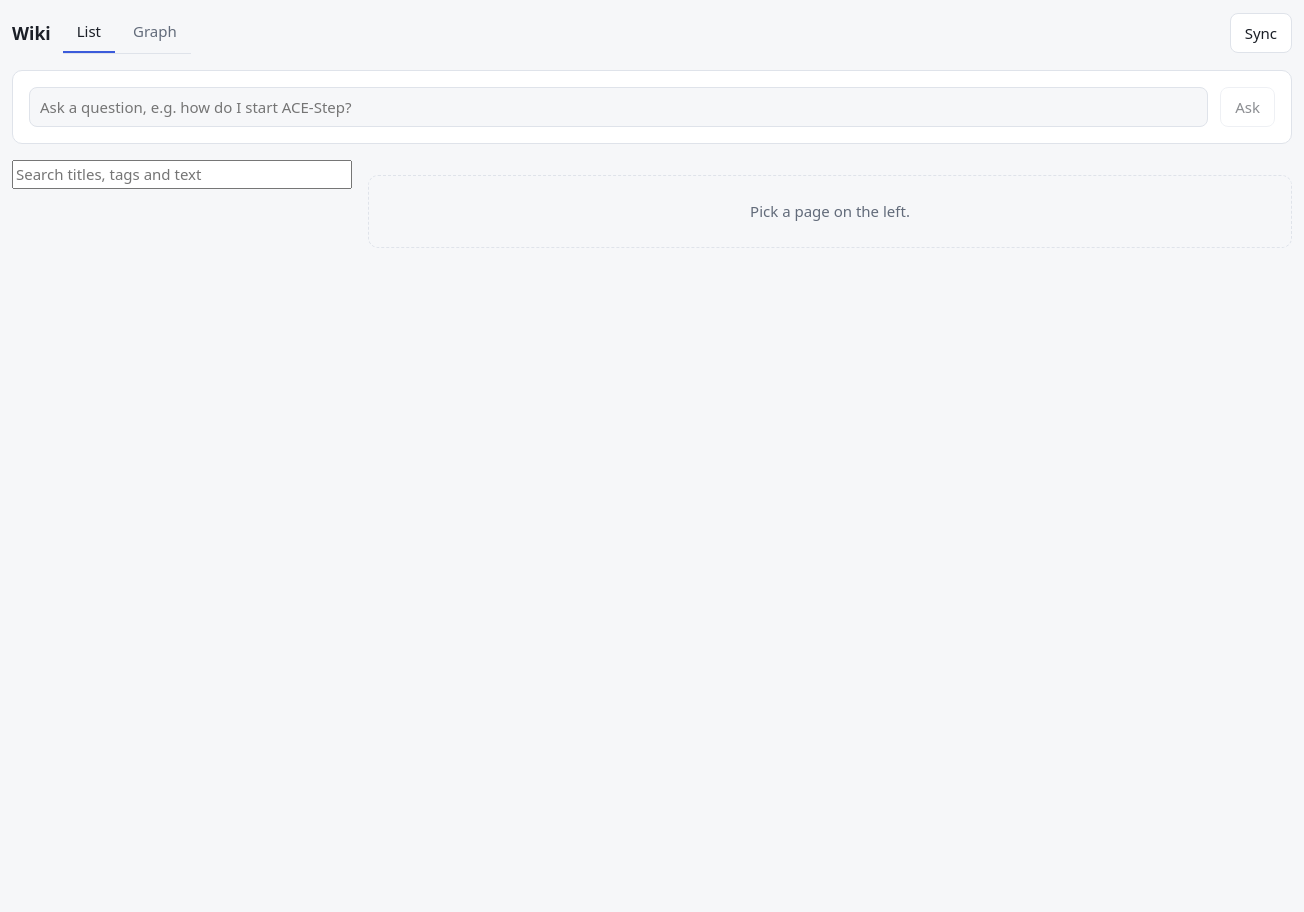
asking the knowledge base › says so when nothing matches, and when the answer points at nothing
Type "quantum chromodynamics" into the field with placeholder "Ask a question, e.g. how do I start ACE-Step?".
click(619, 107); type("quantum chromodynamics")  # box x1=29 y1=86 x2=1208 y2=127
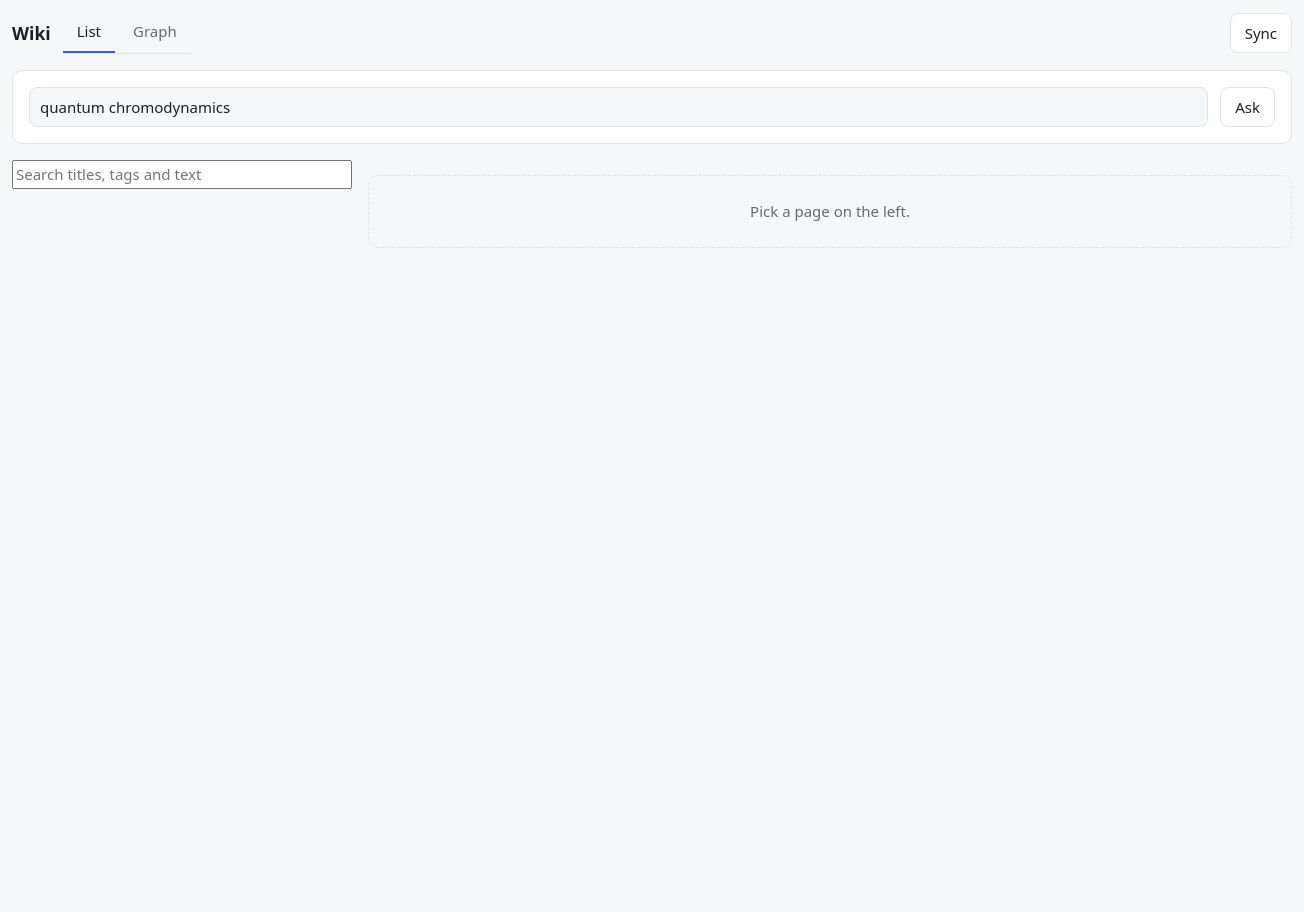
Click the button "Ask".
click(1248, 107)  # box x1=1220 y1=86 x2=1275 y2=127
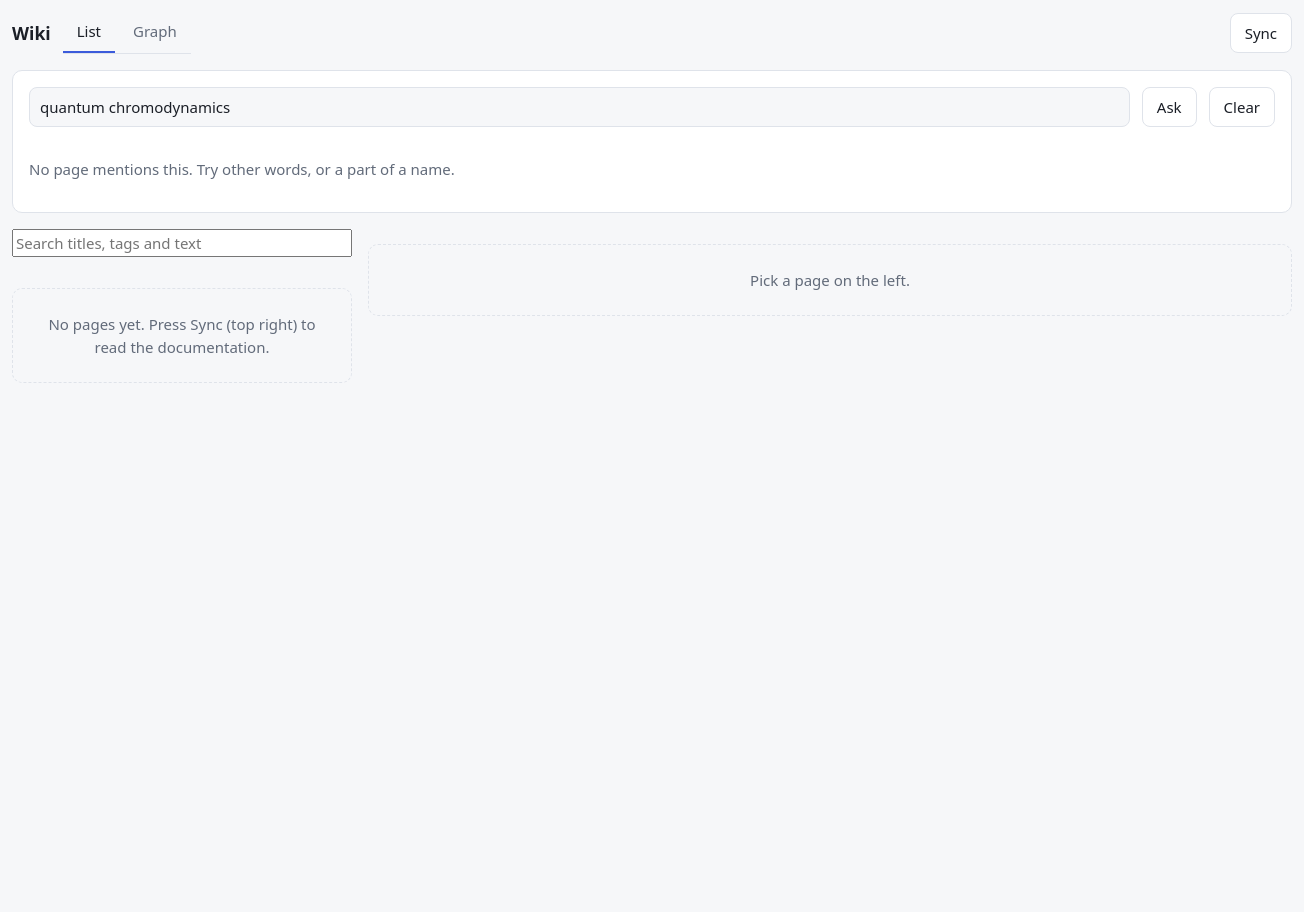
Expected: the text "No page mentions this. Try other words, or a part of a name." is shown, x1=29 y1=159 x2=455 y2=179
Replace the text in the field with placeholder "Ask a question, e.g. how do I start ACE-Step?" with "something else" at point(579, 107), box x1=29 y1=86 x2=1130 y2=127
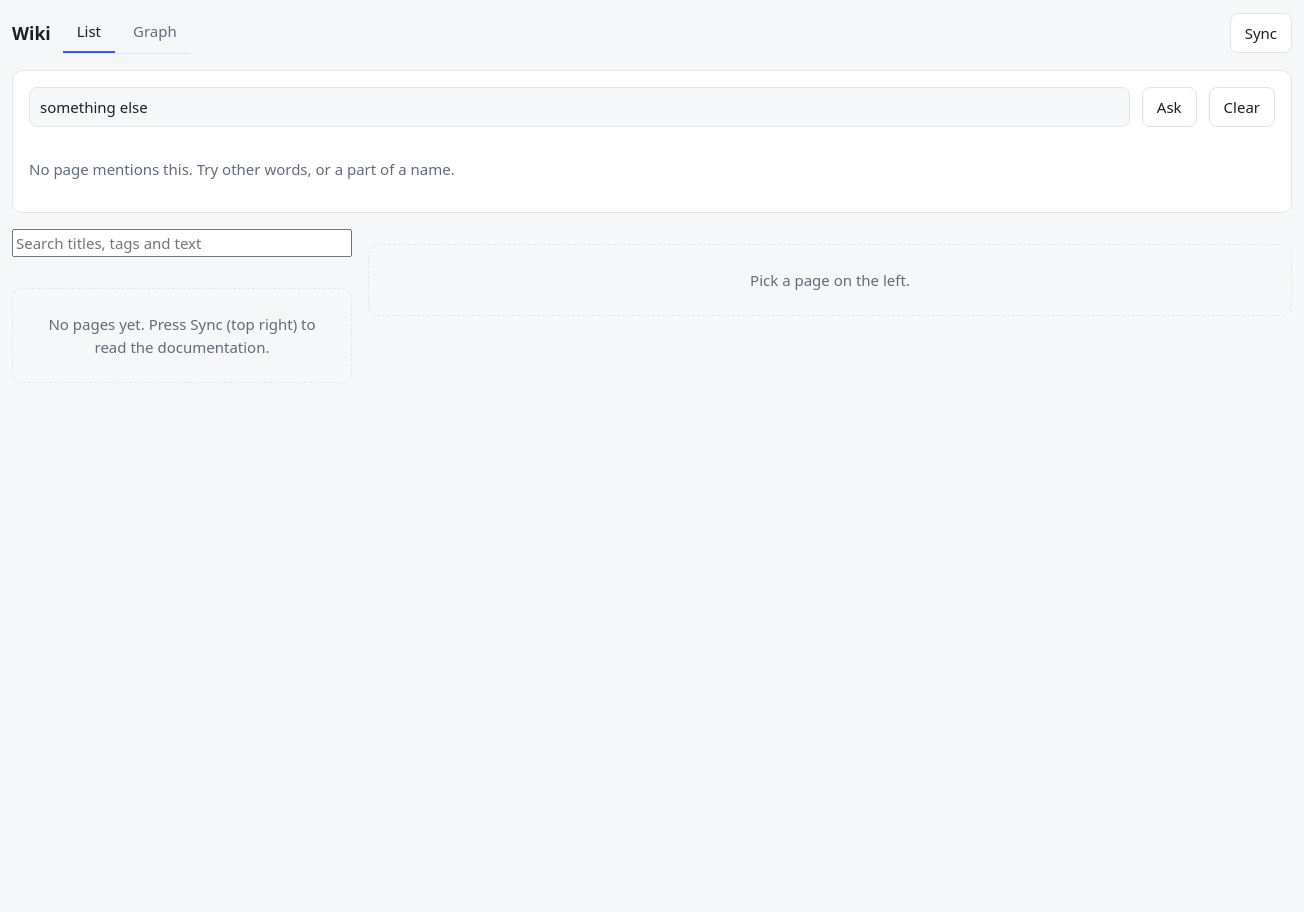
Click the button "Ask".
click(1169, 107)  # box x1=1142 y1=86 x2=1197 y2=127
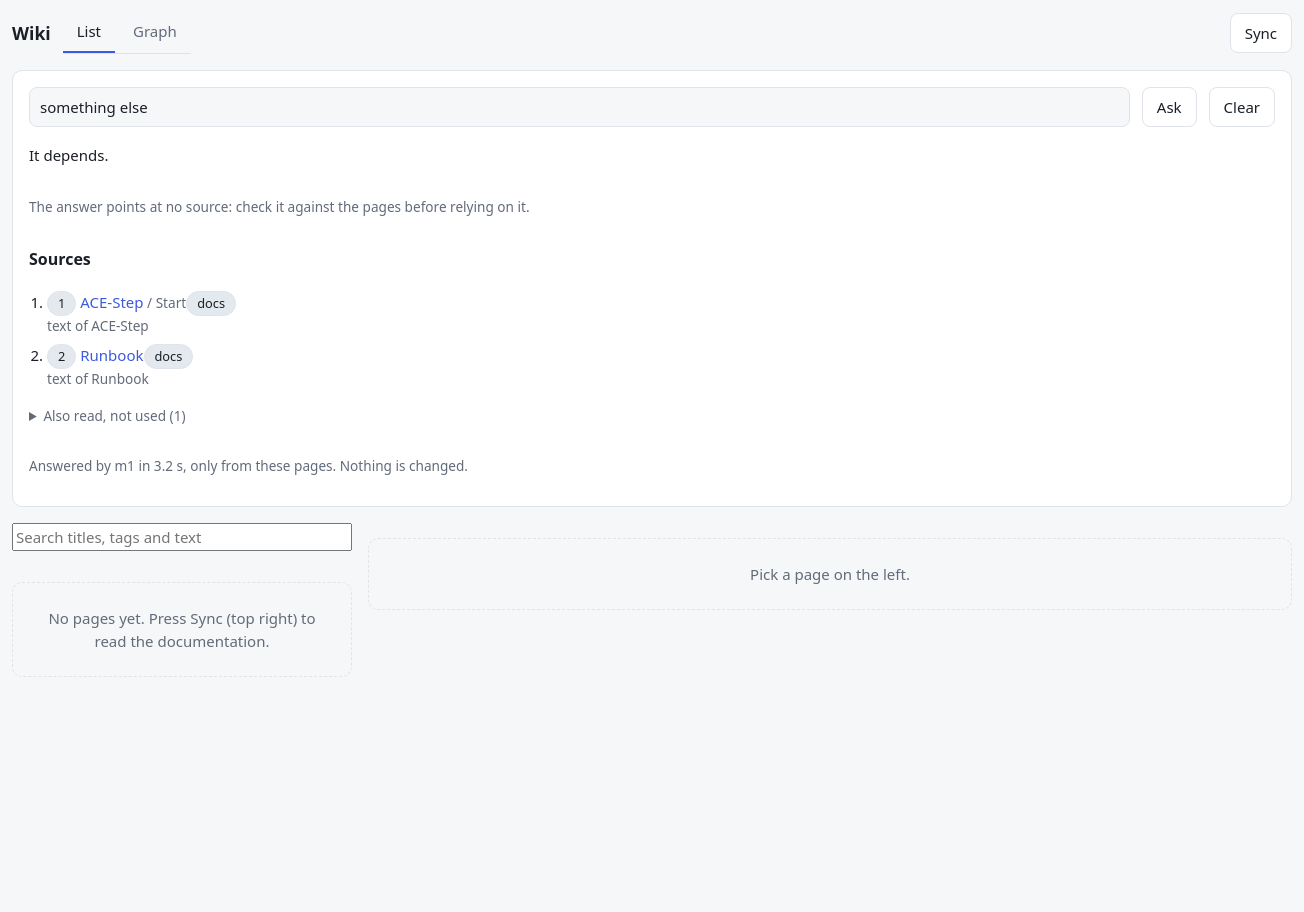
Expected: the text "The answer points at no source: check it against the pages before relying on it." is shown, x1=29 y1=197 x2=530 y2=216
